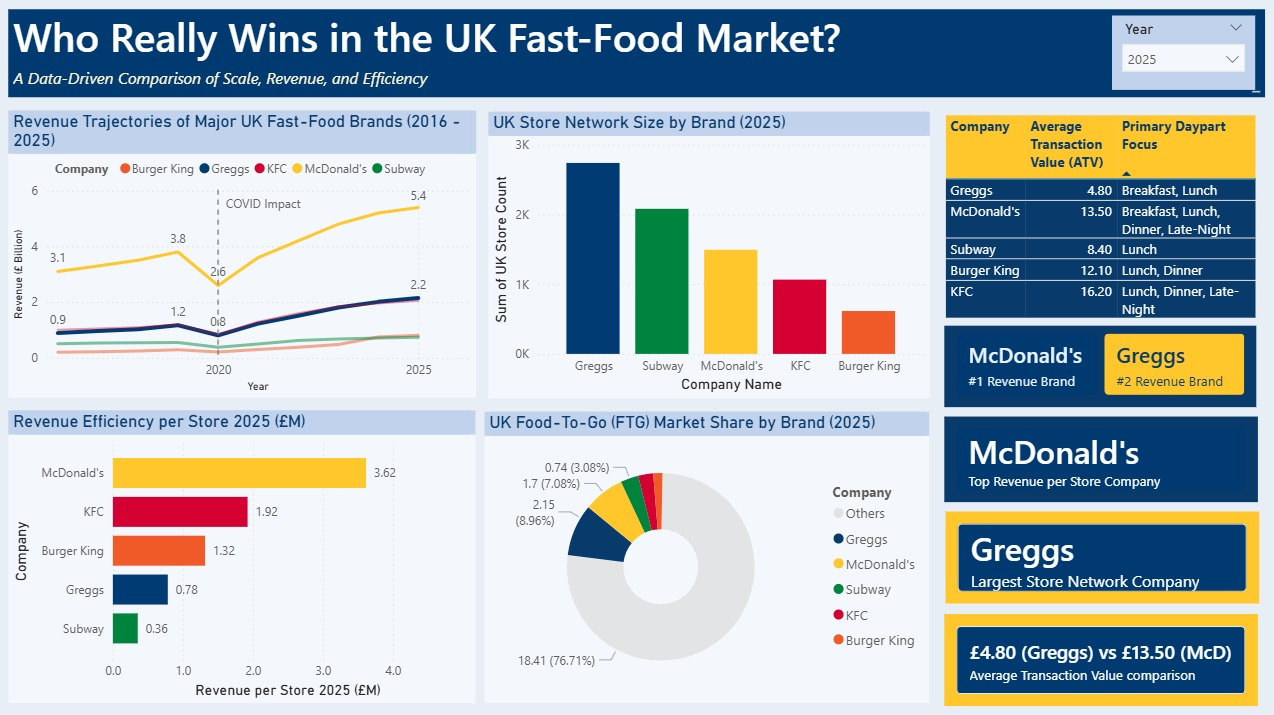

The dashboard page shown, as its layout file describes it:
{"tool":"powerbi","page":{"name":"Page 3","canvas":[1280,720],"ordinal":2},"visuals":[{"type":"shape","box":[0,0,1280.3,720.2],"z":0},{"type":"textbox","title":"Who Really Wins in the UK Fast-Food Market?","box":[11,11,1257.1,88],"z":1000},{"type":"cardVisual","fields":{"Data":["Table11.Top Revenue per Store Company"]},"box":[942.5,413.8,323.8,95],"z":2000},{"type":"cardVisual","fields":{"Data":["Table11.Largest Store Network Company"]},"box":[943.8,508.8,323.8,102.5],"z":3000},{"type":"cardVisual","fields":{"Data":["Table10.ATV Comparison Text"]},"box":[942.5,611.2,323.8,102.5],"z":4000},{"type":"cardVisual","fields":{"Data":["Table11.Market Leader UK","Table11.Top 2 UK Revenue Company"]},"box":[942.5,318.8,323.8,95],"z":6000},{"type":"lineChart","title":"Revenue Trajectories of Major UK Fast-Food Brands (2016 - 2025)","fields":{"Category":["Table11.Year"],"Series":["Table11.Company Name"],"Y":["Sum(Table11.UK Revenue (in Billions))"]},"box":[11,112.5,468.3,287.4],"z":7000},{"type":"clusteredBarChart","title":"Revenue Efficiency per Store 2025 (£M)","fields":{"Category":["Table11.Company Name"],"Y":["Table11.Revenue per Store 2025 (£M)"]},"box":[11.2,412.5,467.5,292.5],"z":8000},{"type":"tableEx","fields":{"Values":["Table10.Company ","Sum(Table10.Average Transaction Value(ATV))","Table10.Primary Daypart Focus"]},"box":[942.5,112.5,326.2,215],"z":9000},{"type":"clusteredColumnChart","title":"UK Store Network Size by Brand (2025)","fields":{"Category":["Table11.Company Name"],"Y":["Sum(Table11.UK Store Count)"]},"box":[491.6,113.7,441.4,286.1],"z":10000},{"type":"slicer","fields":{"Values":["Table11.Year"]},"box":[1115.2,17.1,143.1,74.6],"z":11000},{"type":"donutChart","title":"UK Food-To-Go (FTG) Market Share by Brand (2025)","fields":{"Category":["Table12.Company"],"Y":["Sum(Table12.FTG Revenue (£ Billion))"]},"box":[487.5,413.8,445,291.2],"z":12000}]}

Visuals, with their boxes in screenshot pixels (x1, y1, x2, y2), scaled from the page's 1280x720 canvas onto the 1274x715 screenshot:
shape: detection(0, 0, 1273, 714)
"Who Really Wins in the UK Fast-Food Market?" textbox: detection(11, 11, 1262, 98)
cardVisual - Table11.Top Revenue per Store Company: detection(938, 411, 1260, 505)
cardVisual - Table11.Largest Store Network Company: detection(939, 505, 1262, 607)
cardVisual - Table10.ATV Comparison Text: detection(938, 607, 1260, 709)
cardVisual - Table11.Market Leader UK x Table11.Top 2 UK Revenue Company: detection(938, 317, 1260, 411)
"Revenue Trajectories of Major UK Fast-Food Brands (2016 - 2025)" lineChart: detection(11, 112, 477, 397)
"Revenue Efficiency per Store 2025 (£M)" clusteredBarChart: detection(11, 410, 476, 700)
tableEx - Table10.Company  x Sum(Table10.Average Transaction Value(ATV)): detection(938, 112, 1263, 325)
"UK Store Network Size by Brand (2025)" clusteredColumnChart: detection(489, 113, 929, 397)
slicer - Table11.Year: detection(1110, 17, 1252, 91)
"UK Food-To-Go (FTG) Market Share by Brand (2025)" donutChart: detection(485, 411, 928, 700)
